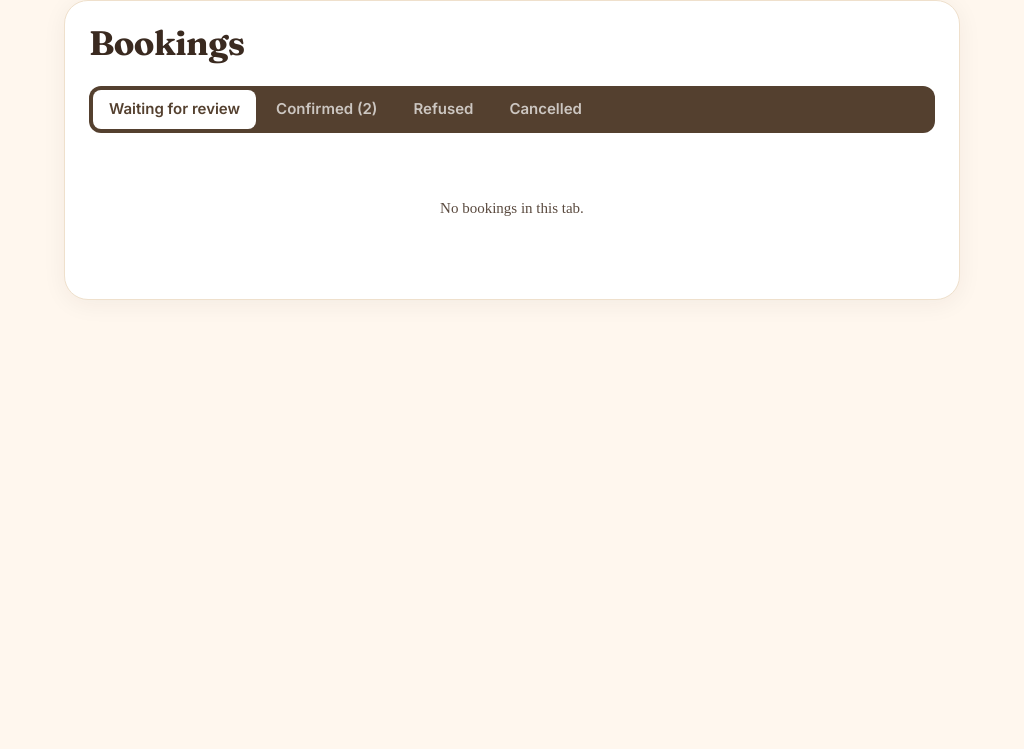
Scenario: the bookings desk › cancels a whole booking without a fee, with the reason
Note: Before the drop-off day, so the desk is not open yet.
Click the button "Confirmed (2)".
click(327, 110)  # box [260, 90, 394, 129]
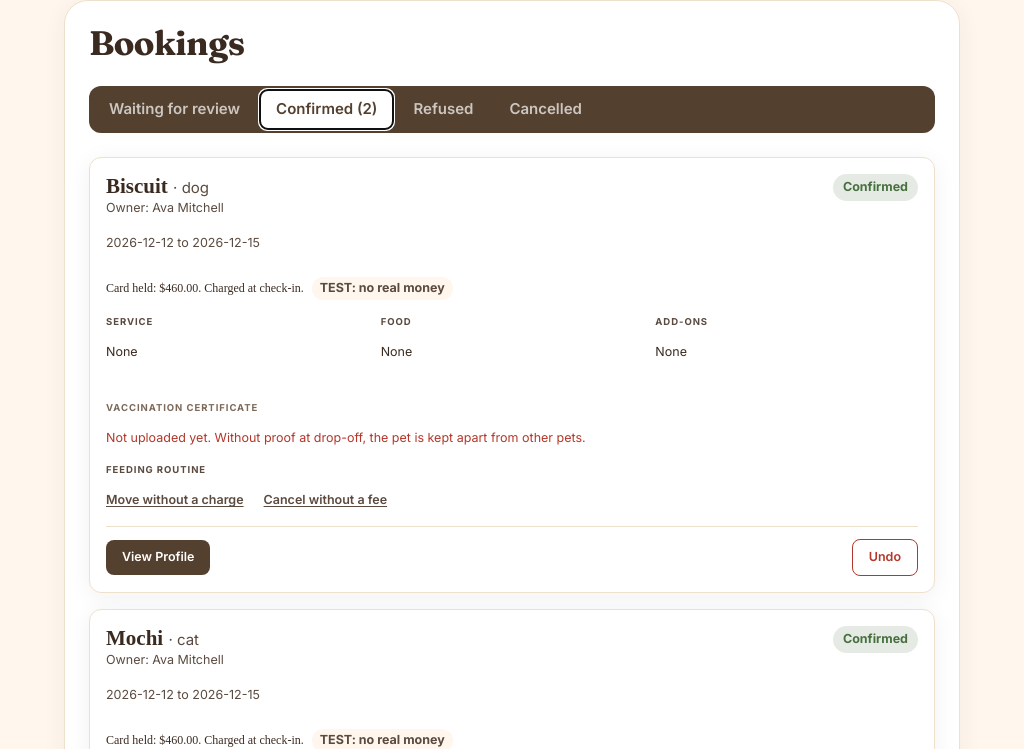
Result: the number of buttons "Cancel without a fee" is 1
Click the button "Cancel without a fee".
click(325, 501)  # box [264, 491, 387, 510]
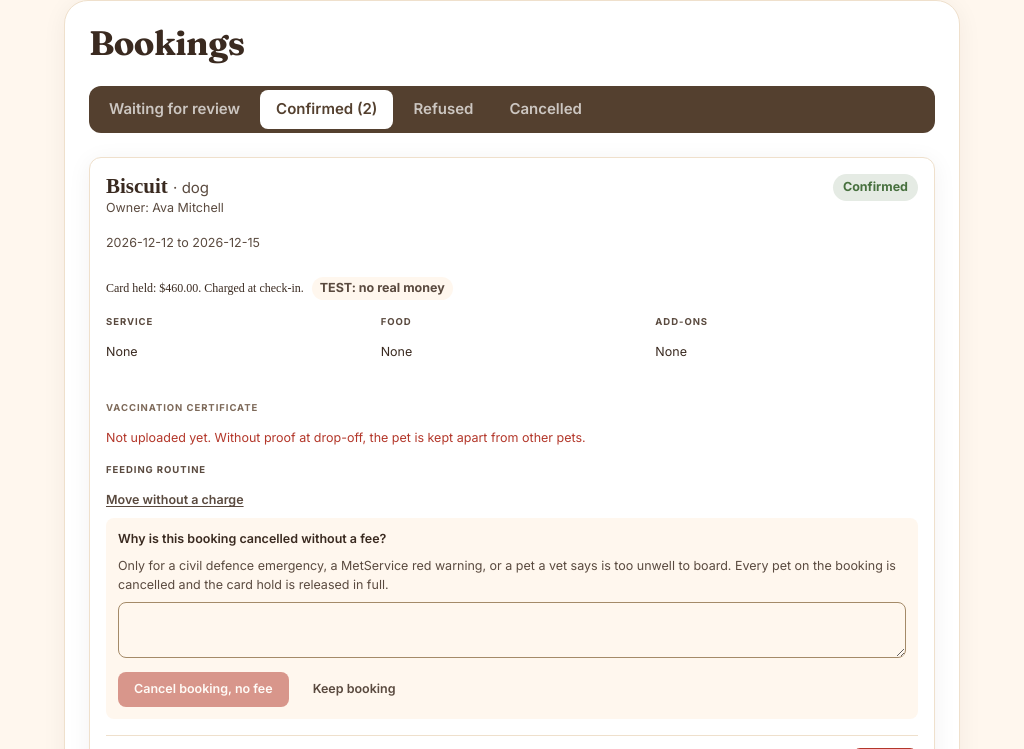
Result: the button "Cancel booking, no fee" is disabled at [118, 672, 289, 707]
Type "MetService red warning" into the text box labelled "Why is this booking cancelled without a fee?".
click(512, 630); type("MetService red warning")  # box [118, 602, 906, 658]
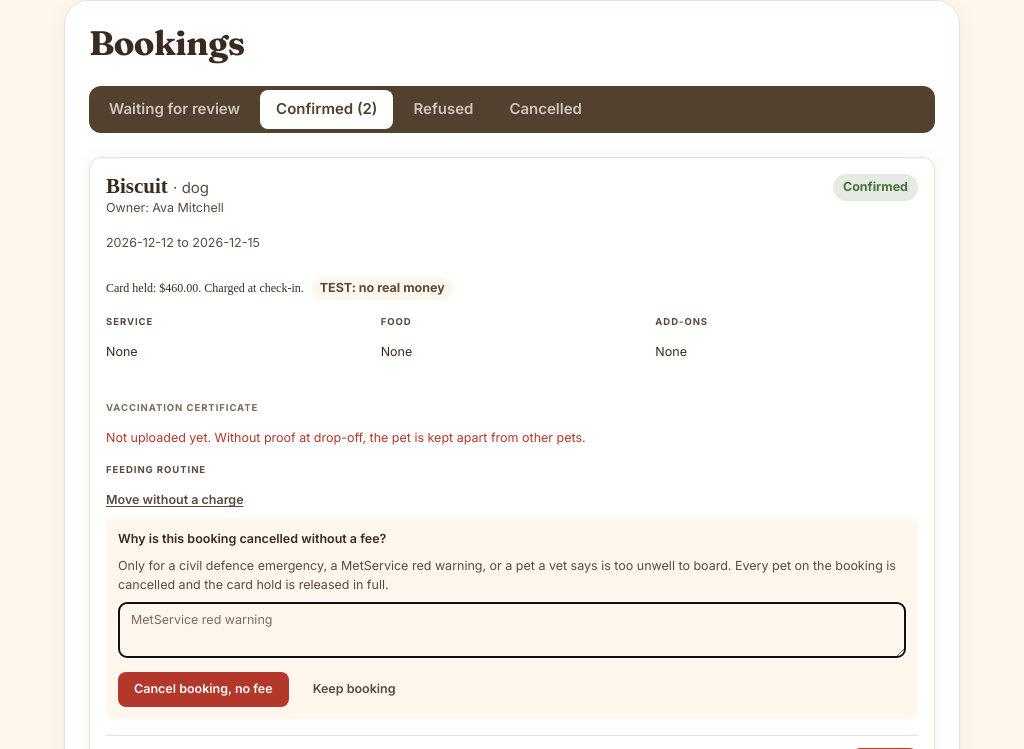
Click the button "Cancel booking, no fee".
click(203, 690)  # box [118, 672, 289, 707]
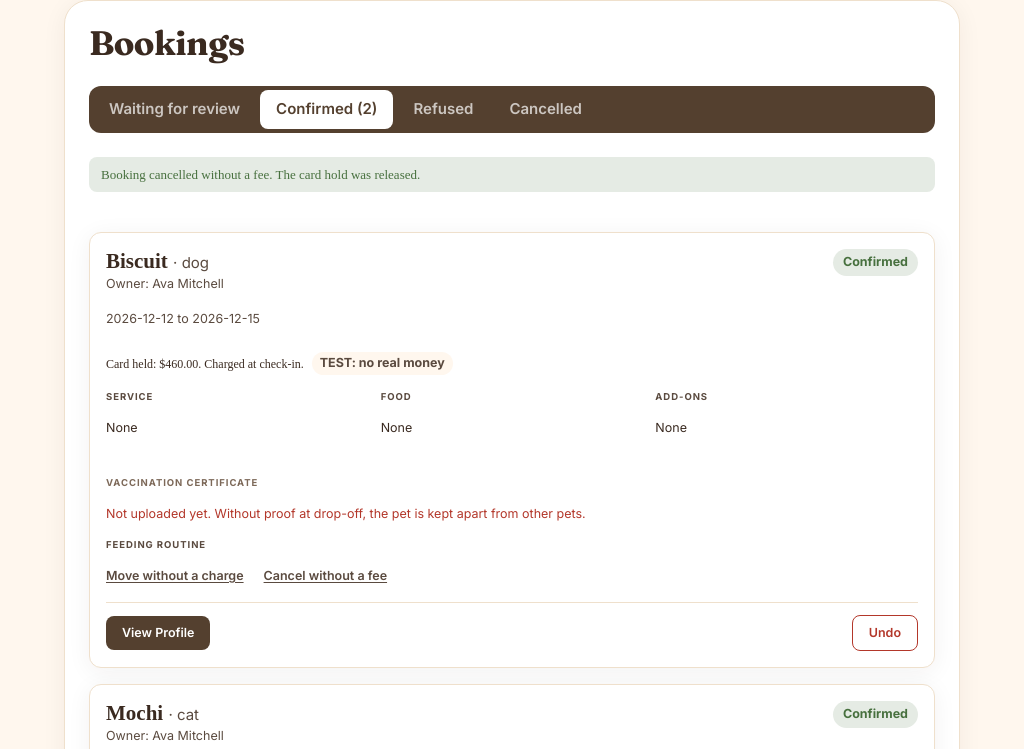
Result: the message reads "Booking cancelled without a fee. The card hold was released." at [101, 167, 420, 182]
